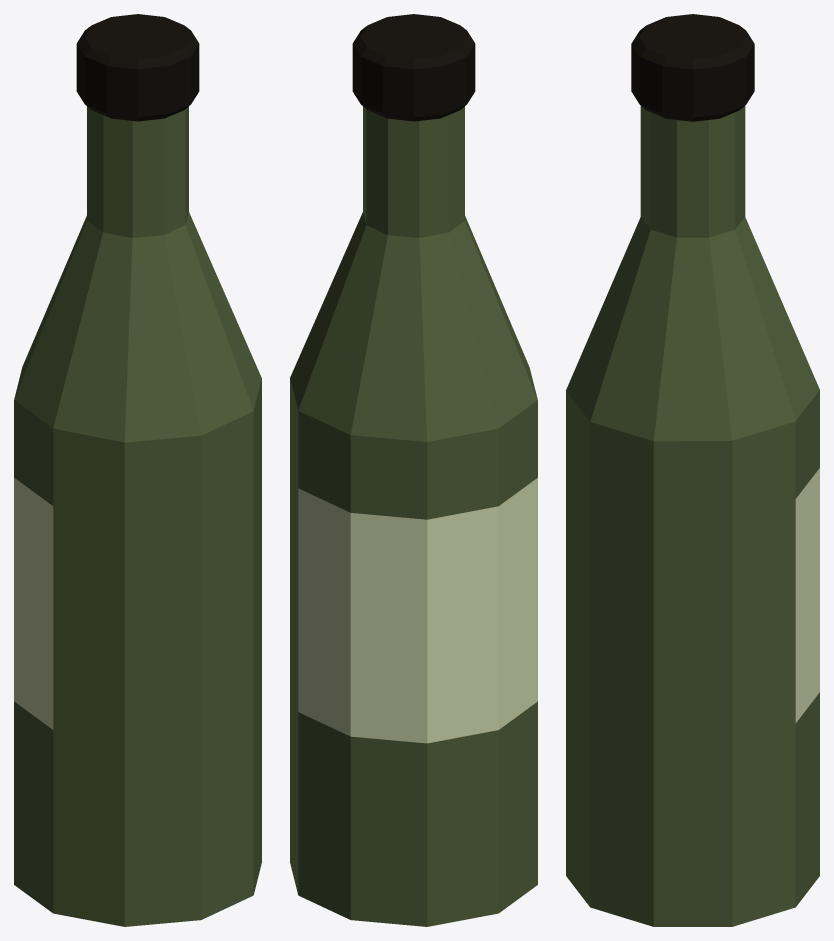
The model's file is winebottle.fbx.
3 views of the same model, side by side, from view 1: azimuth 30°, elevation 25°; view 2: azimuth 150°, elevation 25°; view 3: azimuth 270°, elevation 25° (orthographic).
Visible parts, largest first — view 1: Cylinder, cap, label; view 2: Cylinder, label, cap; view 3: Cylinder, cap, label.
Boxes of the visible parts, x1,y1,x2,y2 form: Cylinder: (14,106,261,926); cap: (76,14,199,121); label: (14,478,53,729); Cylinder: (290,106,537,926); label: (298,478,537,743); cap: (352,14,475,121); Cylinder: (566,106,819,926); cap: (631,14,754,121); label: (795,468,819,722).
Size of the model in its own units: 0.1369 by 0.525 by 0.144.
